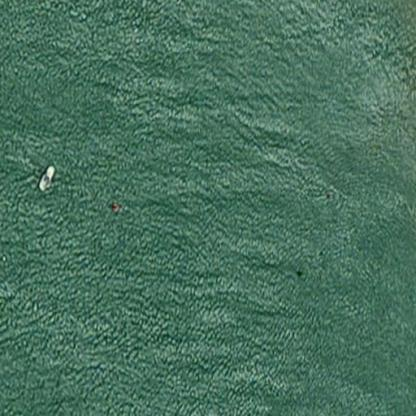ship: (32, 160, 61, 194)
